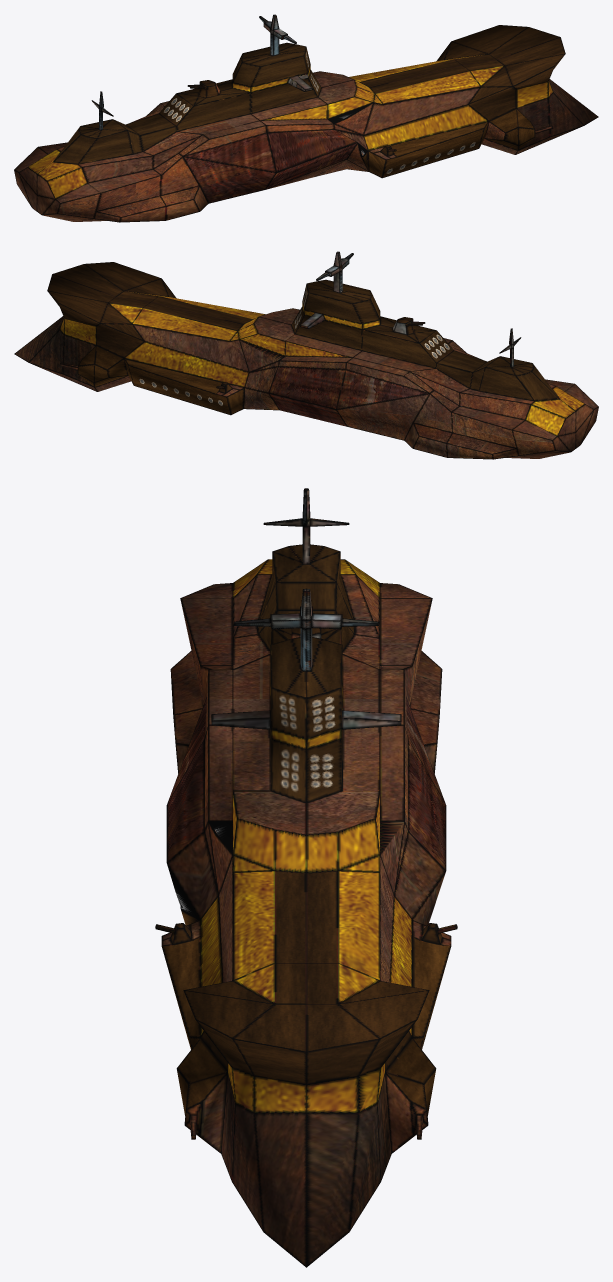
File: cruser.dae
The picture shows the model from 3 angles, top to bottom: view 1: azimuth 30°, elevation 25°; view 2: azimuth 150°, elevation 25°; view 3: azimuth 270°, elevation 25°; orthographic projection. The views are drawn at different scales.
Visible parts, largest first — view 1: Cube; view 2: Cube; view 3: Cube.
Part boxes in pixels (x1,y1,x2,y2): Cube: (14, 14, 598, 222); Cube: (14, 251, 598, 459); Cube: (155, 488, 457, 1267).
Size of the model in its own units: 2.38 by 0.555 by 0.7348.
Materials: 1 (1 with a texture image).
